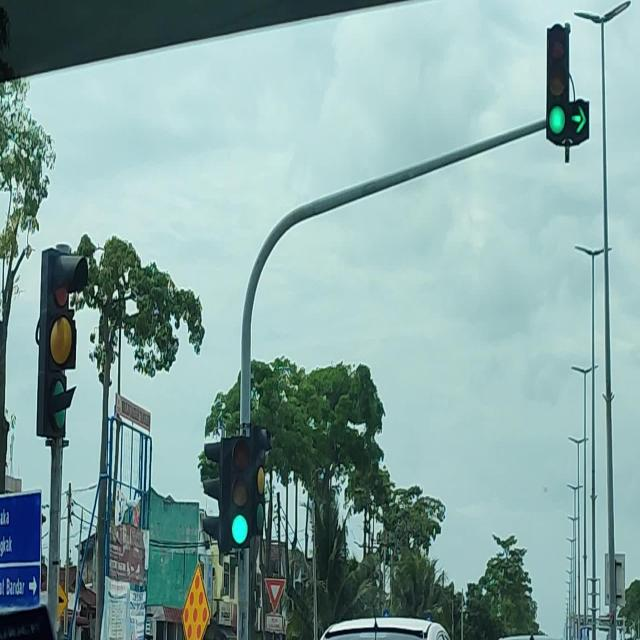car: (301, 616, 462, 640), (489, 634, 568, 640)
traffic light: (36, 246, 88, 439), (201, 429, 270, 552), (545, 23, 589, 147), (229, 431, 268, 547), (201, 437, 233, 552), (229, 437, 256, 549), (546, 24, 570, 146), (247, 426, 271, 545), (568, 100, 590, 146)
